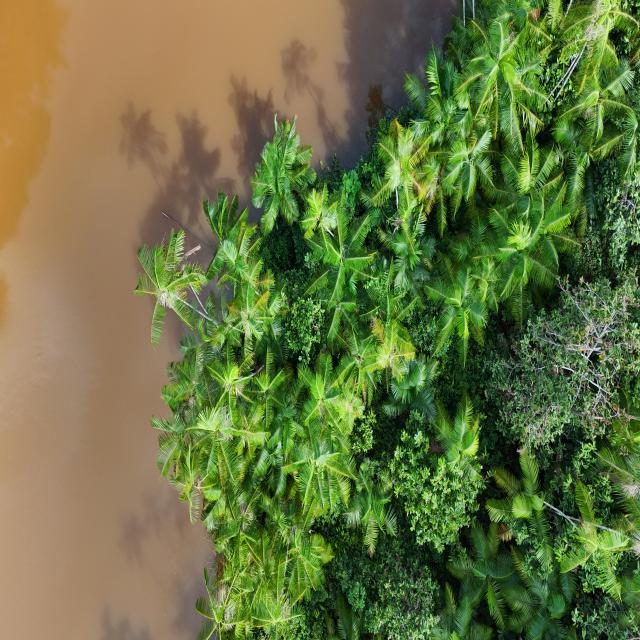vegetation: (133, 1, 639, 638)
